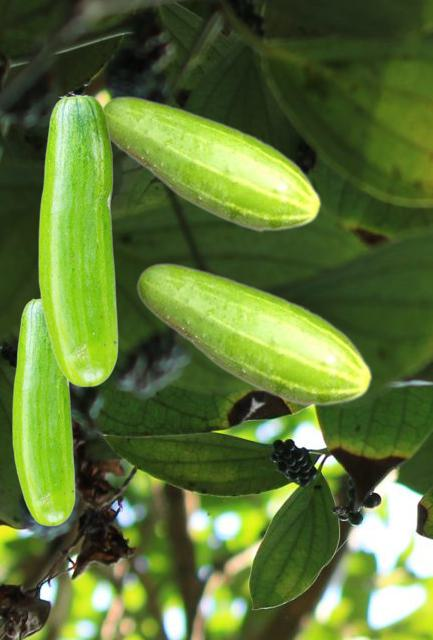cucumber: (136, 262, 372, 407), (103, 95, 321, 232), (38, 94, 117, 386), (12, 298, 74, 525)
